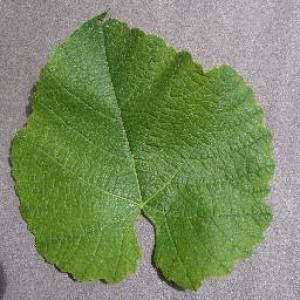Folha: (7, 8, 277, 292)
